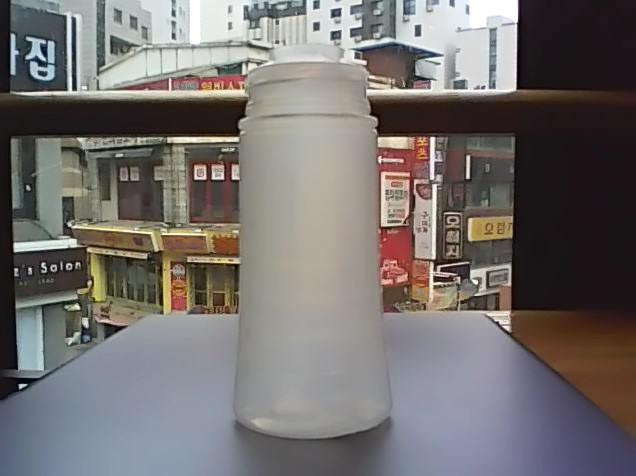Plastic: (233, 42, 396, 442)
